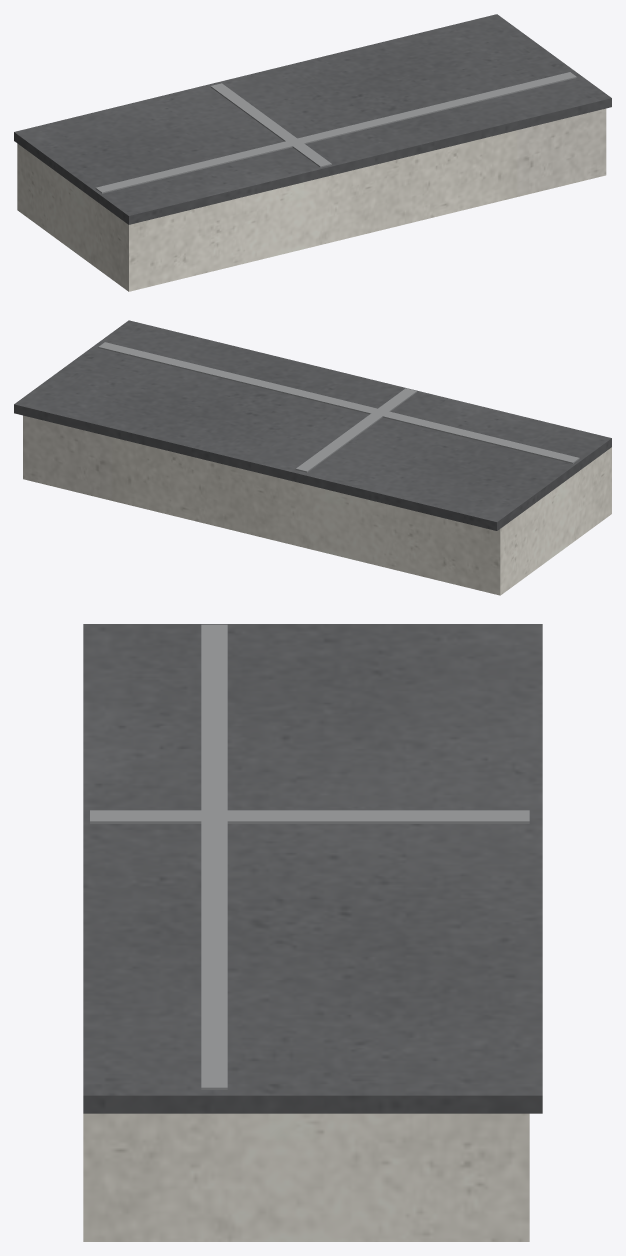
The model's file is floor_membrane_r_half_e1001.glb.
The picture shows the model from 3 angles, top to bottom: view 1: azimuth 30°, elevation 25°; view 2: azimuth 150°, elevation 25°; view 3: azimuth 270°, elevation 25°; orthographic projection. The views are drawn at different scales.
Parts seen in each view (by area): view 1: floor_membrane_r_half_e1001_membrane, floor_membrane_r_half_e1001_plaster, floor_membrane_r_half_e1001_seam; view 2: floor_membrane_r_half_e1001_membrane, floor_membrane_r_half_e1001_plaster, floor_membrane_r_half_e1001_seam; view 3: floor_membrane_r_half_e1001_membrane, floor_membrane_r_half_e1001_plaster, floor_membrane_r_half_e1001_seam.
Boxes of the visible parts, x1=… form: floor_membrane_r_half_e1001_membrane: x1=14, y1=14, x2=611, y2=224; floor_membrane_r_half_e1001_plaster: x1=17, y1=108, x2=606, y2=291; floor_membrane_r_half_e1001_seam: x1=95, y1=72, x2=576, y2=193; floor_membrane_r_half_e1001_membrane: x1=14, y1=320, x2=611, y2=530; floor_membrane_r_half_e1001_plaster: x1=23, y1=415, x2=611, y2=595; floor_membrane_r_half_e1001_seam: x1=98, y1=342, x2=579, y2=472; floor_membrane_r_half_e1001_membrane: x1=83, y1=624, x2=542, y2=1113; floor_membrane_r_half_e1001_plaster: x1=83, y1=1113, x2=529, y2=1241; floor_membrane_r_half_e1001_seam: x1=90, y1=624, x2=529, y2=1089.
Bounding box in the file's own units: 1.7 × 0.259 × 0.7.
3 materials, 2 textured.
